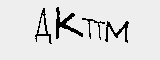Д: (31, 7, 53, 42)
К: (56, 3, 83, 39)
М: (105, 21, 130, 44)
Т: (93, 19, 105, 41), (83, 18, 94, 41)
